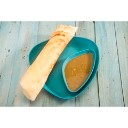dosa: (10, 25, 81, 100)
